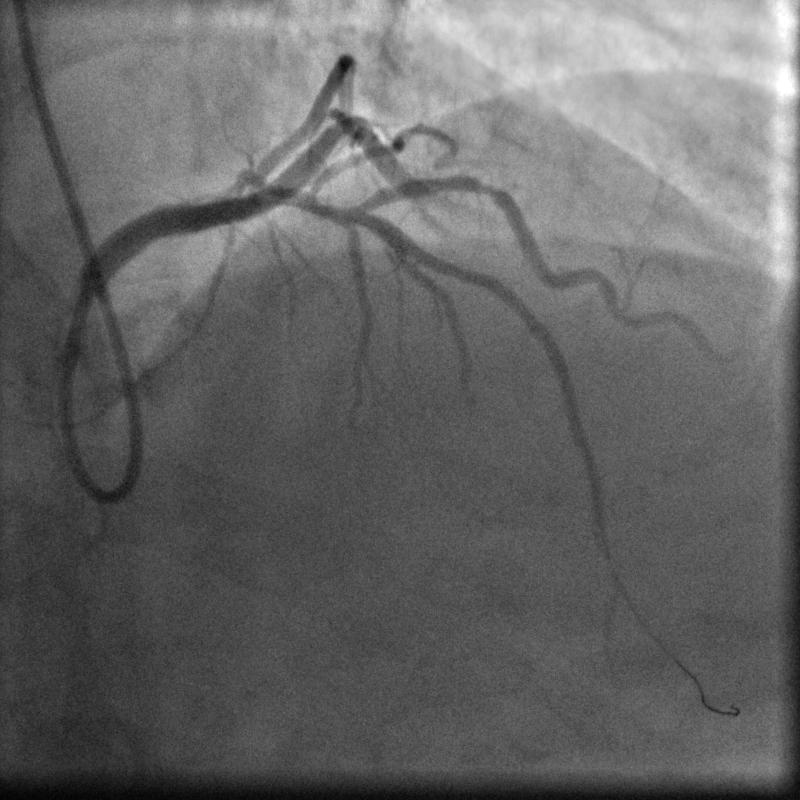Stenosis: (467, 168, 511, 214)
